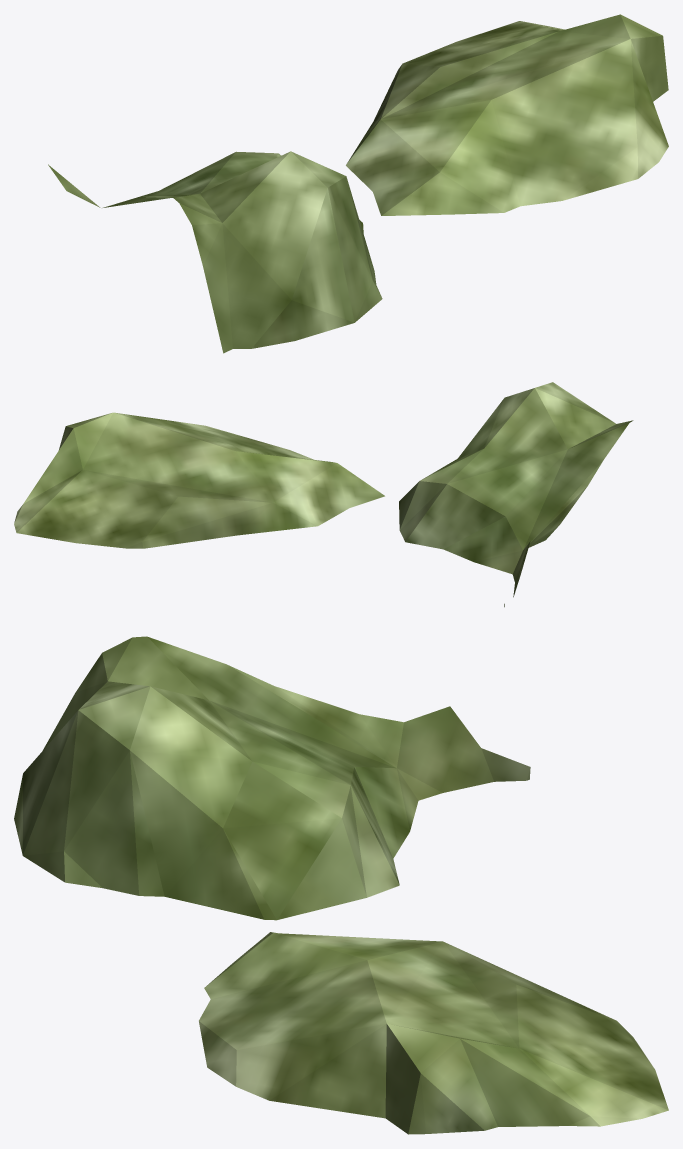
The picture shows the model from 3 angles, top to bottom: view 1: azimuth 30°, elevation 25°; view 2: azimuth 150°, elevation 25°; view 3: azimuth 270°, elevation 25°; orthographic projection. The views are drawn at different scales.
Size of the model in its own units: 0.9531 by 0.2043 by 0.7433.
Materials: 1 (1 with a texture image).
